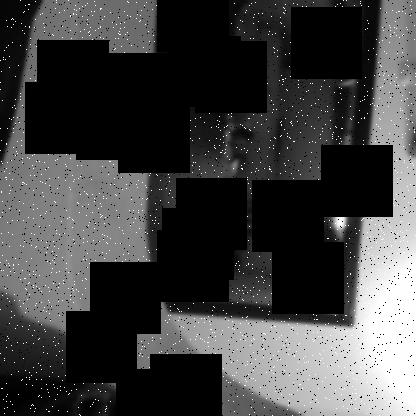Porte: (144, 1, 381, 329)
